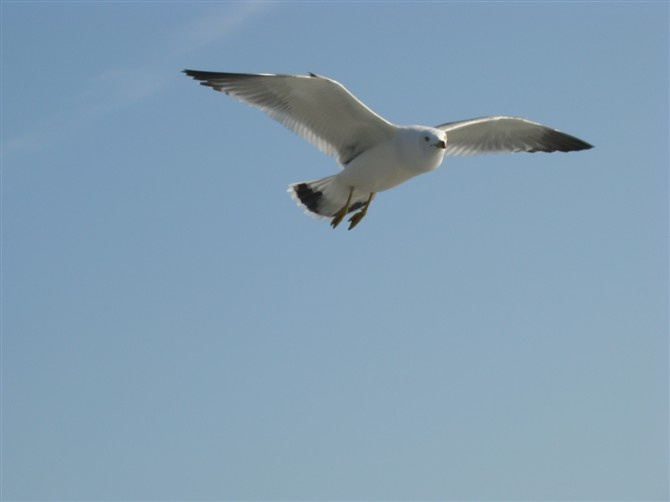bird: (177, 67, 597, 234)
